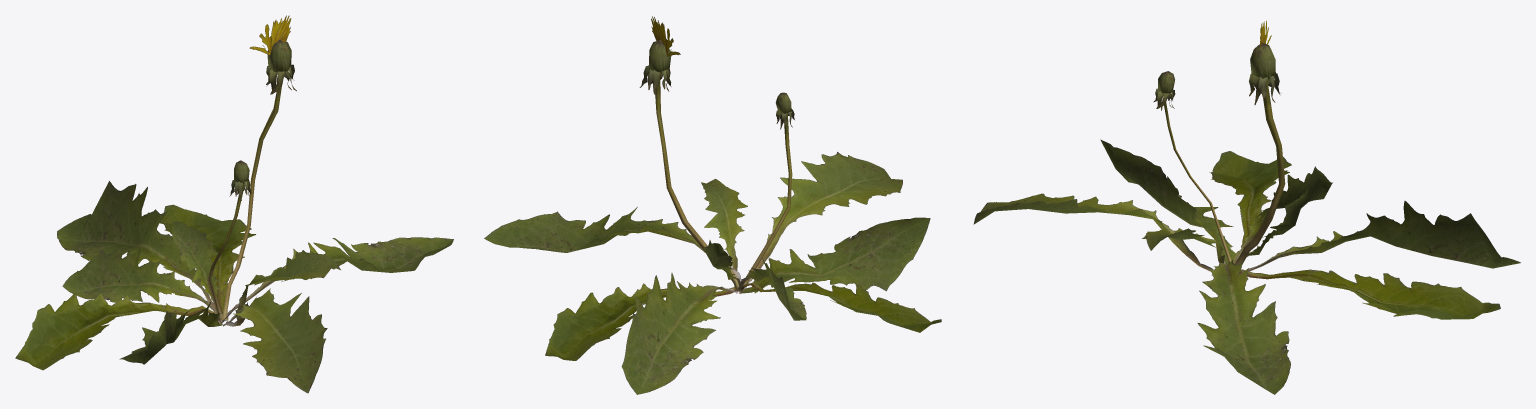
File: dandelion_01_c_LOD1.glb
The picture shows the model from 3 angles, left to right: view 1: azimuth 30°, elevation 25°; view 2: azimuth 150°, elevation 25°; view 3: azimuth 270°, elevation 25°; orthographic projection. The views are drawn at different scales.
Visible parts, largest first — view 1: dandelion_01_c_LOD1__lod0; view 2: dandelion_01_c_LOD1__lod0; view 3: dandelion_01_c_LOD1__lod0.
Part boxes in pixels (<box>): dandelion_01_c_LOD1__lod0: <box>15,15,453,393</box>; dandelion_01_c_LOD1__lod0: <box>484,16,941,394</box>; dandelion_01_c_LOD1__lod0: <box>973,20,1520,394</box>.
Size of what is drawn, in the model's own units: 0.1698 by 0.1015 by 0.1673.
1 material, 1 textured.
